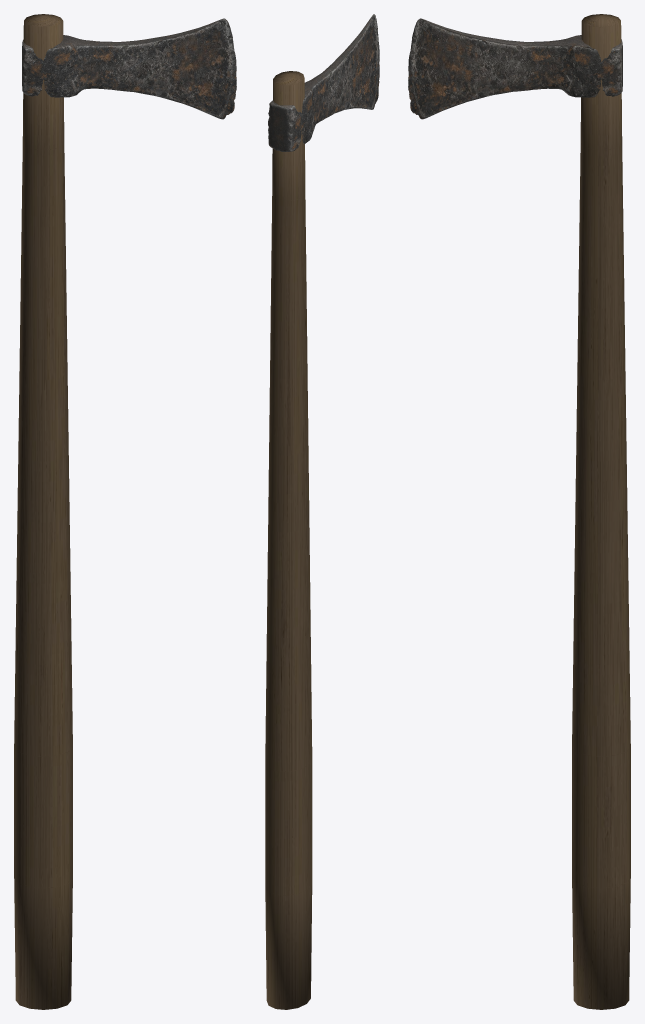
The model's file is axe_peasant_p1_w2.glb.
The picture shows the model from 3 angles, left to right: view 1: azimuth 90°, elevation 25°; view 2: azimuth 150°, elevation 25°; view 3: azimuth 270°, elevation 25°; orthographic projection. The views are drawn at different scales.
Parts seen in each view (by area): view 1: axe_peasant_p1_w2; view 2: axe_peasant_p1_w2; view 3: axe_peasant_p1_w2.
Part boxes in pixels (x1=…): axe_peasant_p1_w2: x1=14, y1=14, x2=236, y2=1009; axe_peasant_p1_w2: x1=265, y1=14, x2=379, y2=1009; axe_peasant_p1_w2: x1=408, y1=14, x2=630, y2=1009.
Size of the model in its own units: 0.0329 by 0.7631 by 0.1556.
2 materials, 2 textured.
